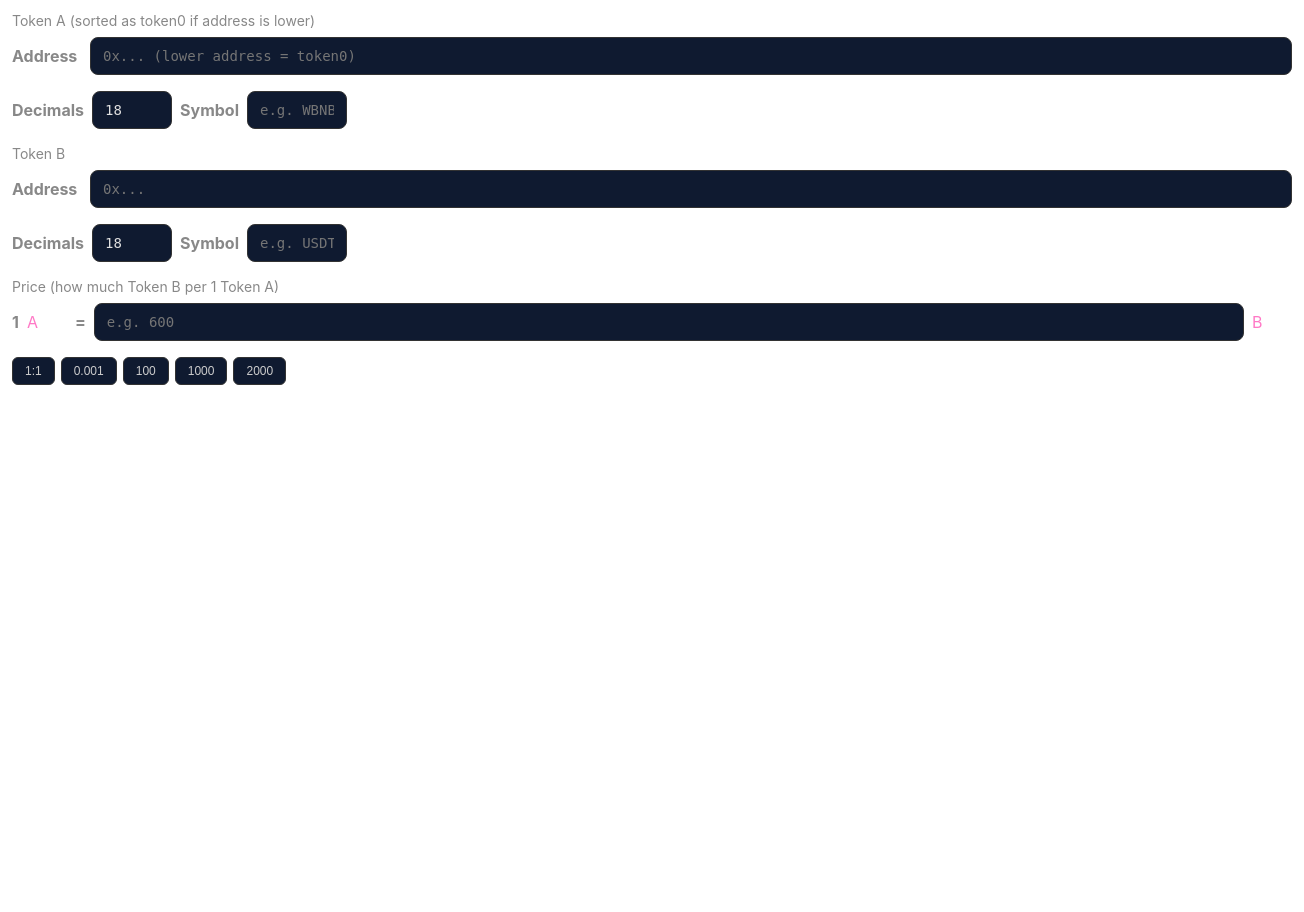
it: SqrtPriceX96 › swaps tokens when addrA > addrB
Step 1. Type "0x0000000000000000000000000000000000000002" into the field with placeholder "0x... (lower address = token0)" → (691, 56), box [90,37,1292,75]
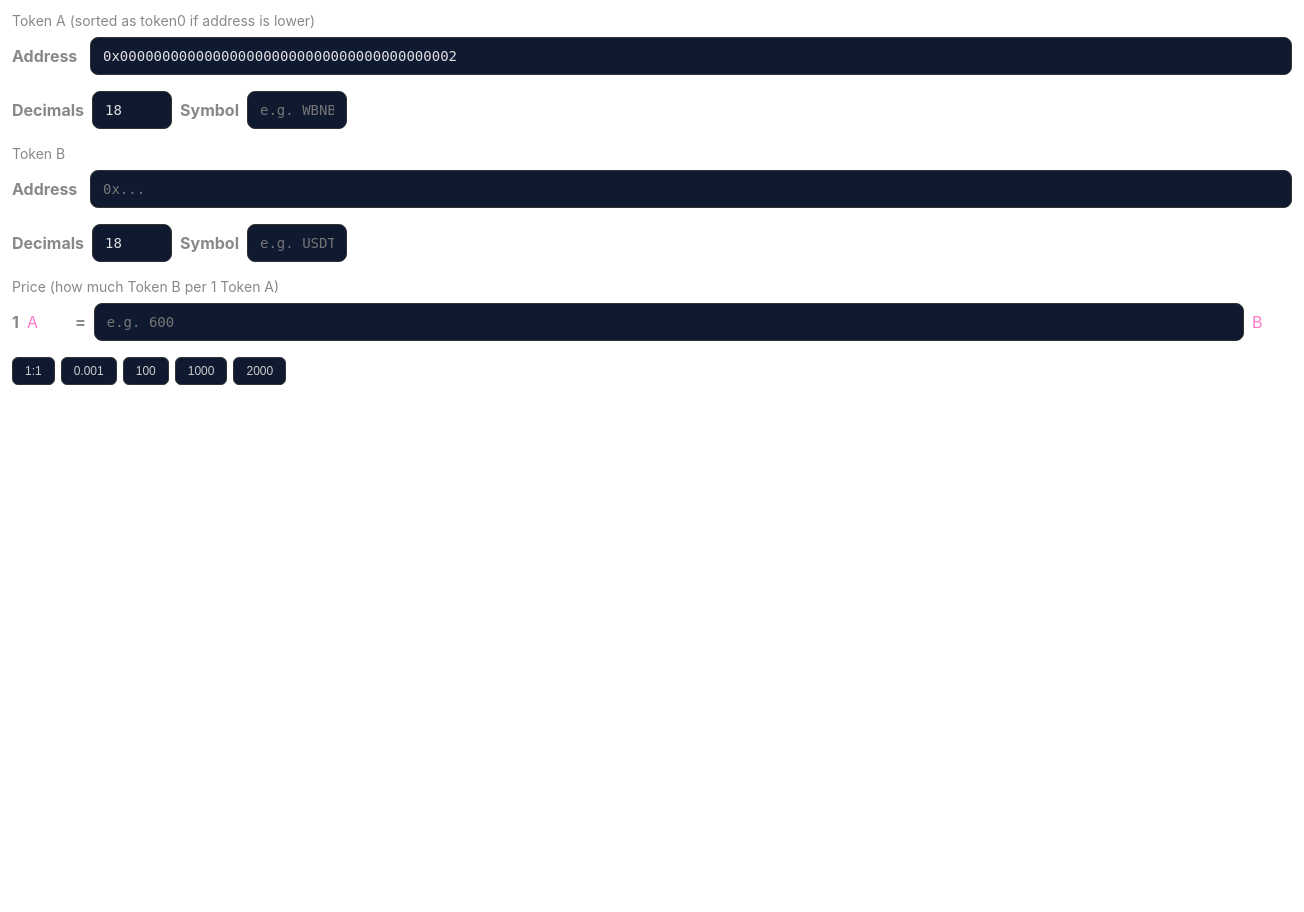
Step 2. Type "0x0000000000000000000000000000000000000001" into the field with placeholder "0x..." → (691, 189), box [90,170,1292,208]
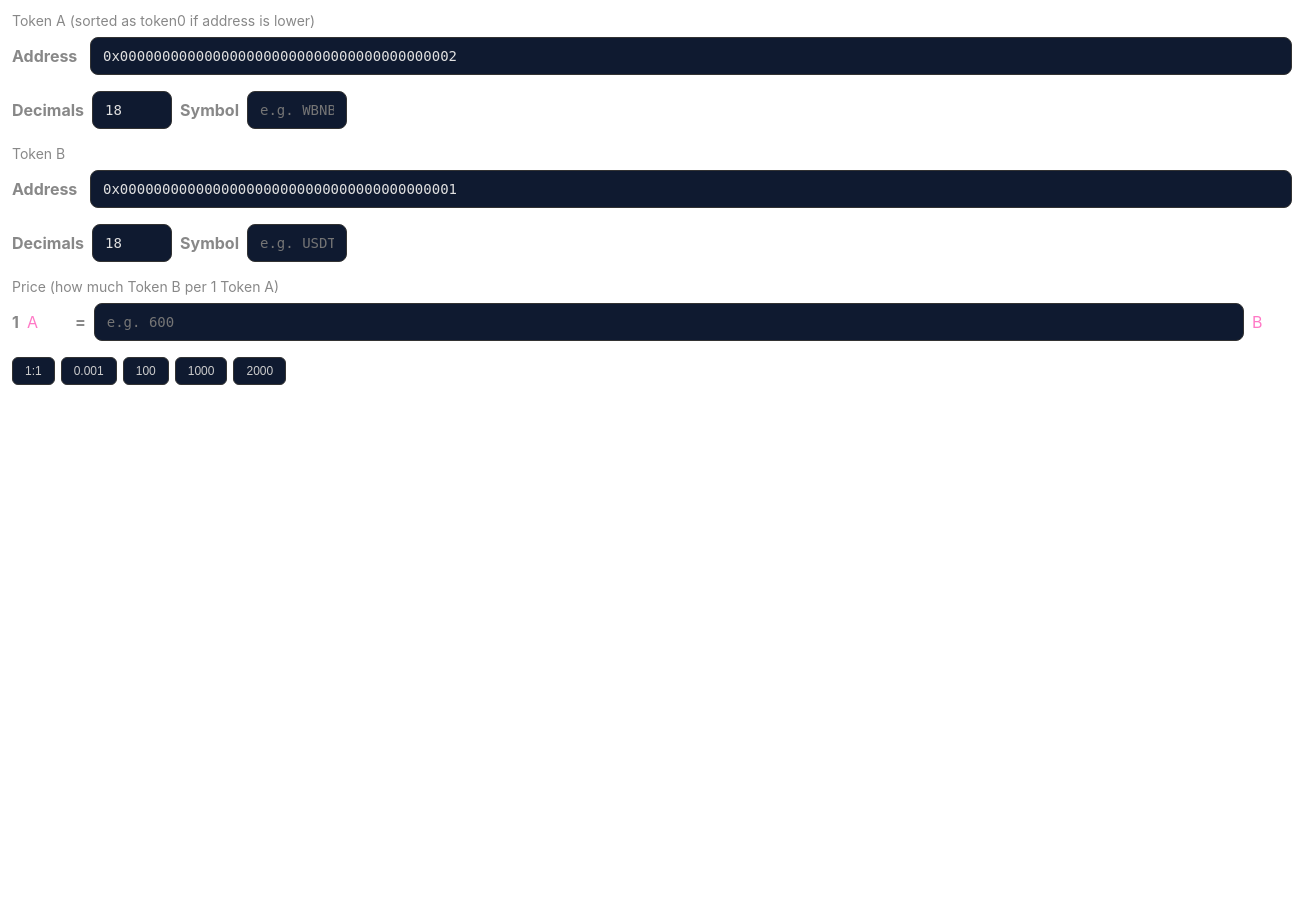
Step 3. Type "600" into the field with placeholder "e.g. 600" → (669, 322), box [94,303,1244,341]
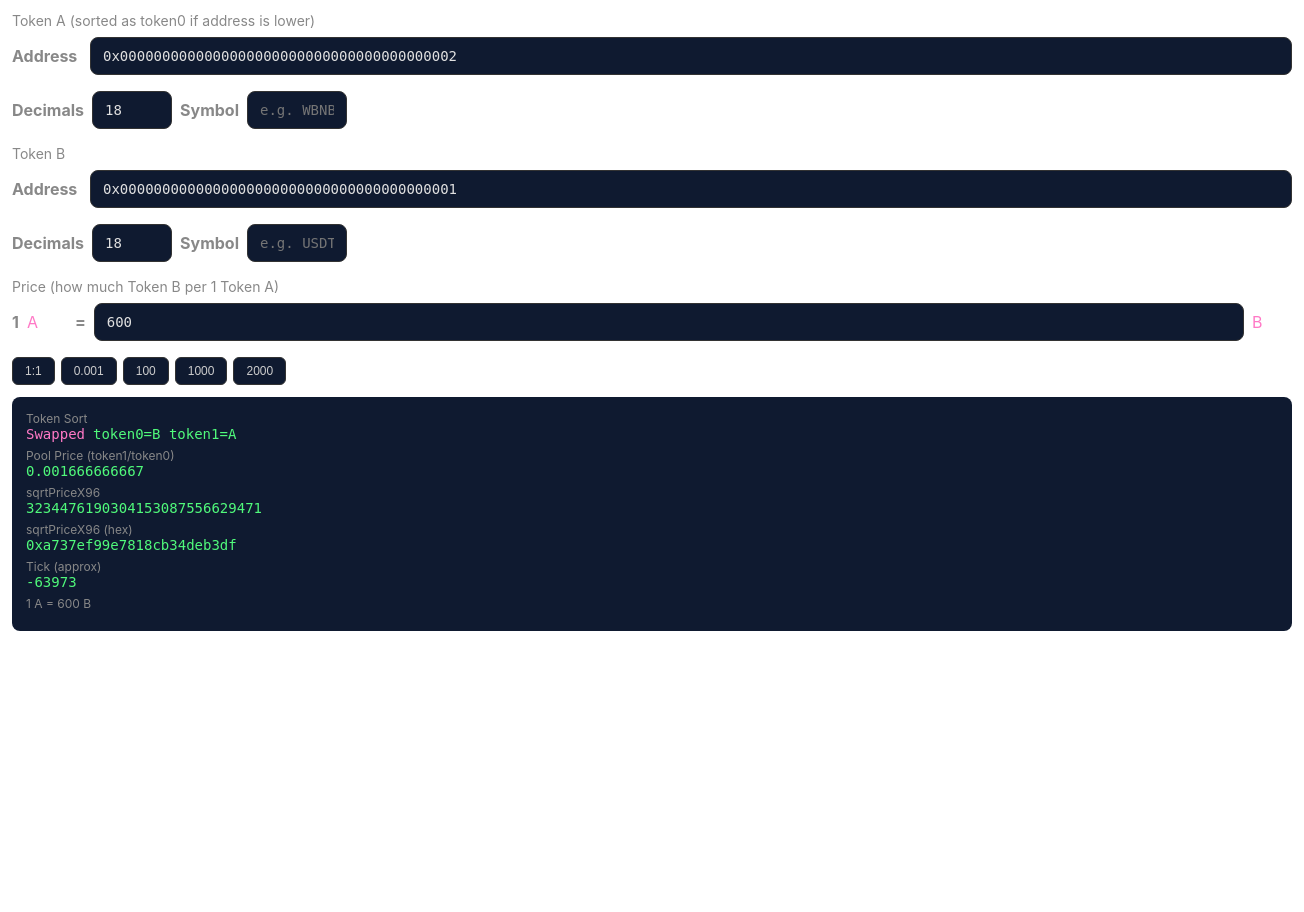
Expected: the element with class "tool-result" is shown, [12,397,1292,631]
Expected: the text "sqrtPriceX96" is shown, [26,485,100,500]
